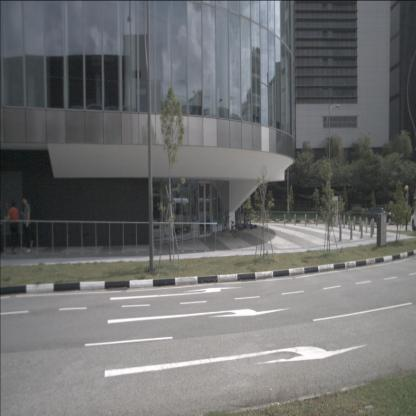human-pedestrian-adult: (5, 200, 19, 254), (21, 197, 34, 253)
vehicle-bicycle: (222, 212, 238, 238)
vehicle-car: (366, 207, 394, 226), (410, 204, 416, 232)
